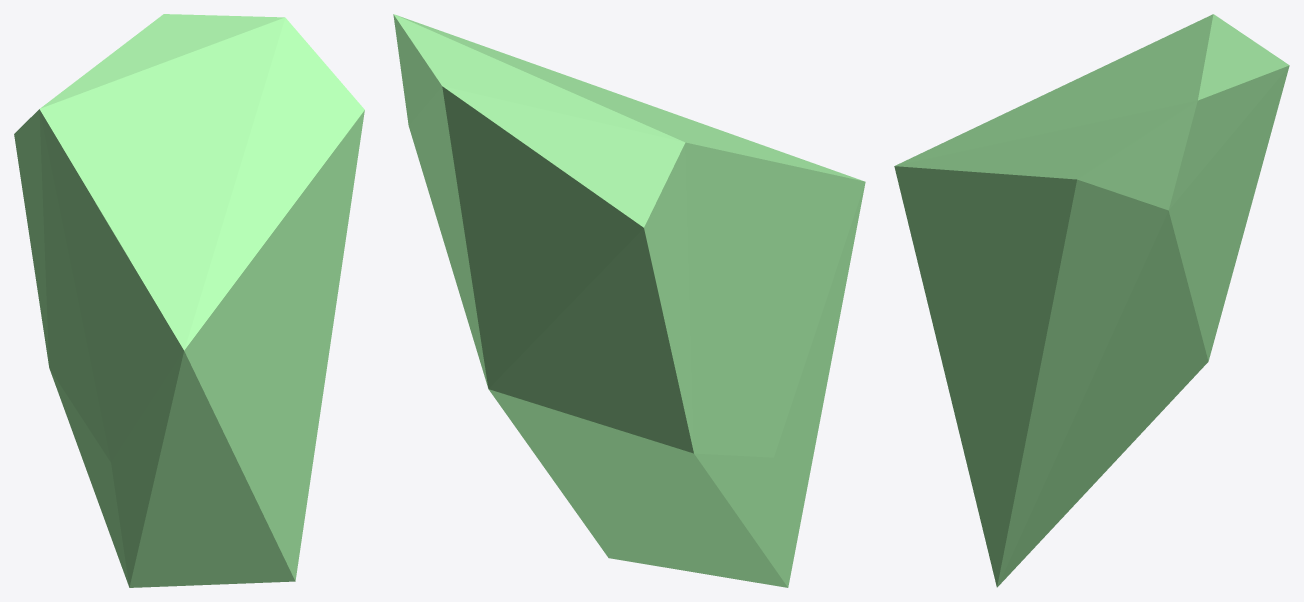
File: linkhou_LR4_R560_link7_respondable_coll_25.dae
3 views of the same model, side by side, from view 1: azimuth 30°, elevation 25°; view 2: azimuth 150°, elevation 25°; view 3: azimuth 270°, elevation 25° (orthographic). The views are drawn at different scales.
Visible parts, largest first — view 1: Node_00000209DB3AA780; view 2: Node_00000209DB3AA780; view 3: Node_00000209DB3AA780.
Part boxes in pixels (bbox=[...]): Node_00000209DB3AA780: bbox=[14, 14, 364, 587]; Node_00000209DB3AA780: bbox=[393, 14, 865, 587]; Node_00000209DB3AA780: bbox=[894, 14, 1289, 587].
Bounding box in the file's own units: 0.00999 × 0.0173 × 0.0117.
